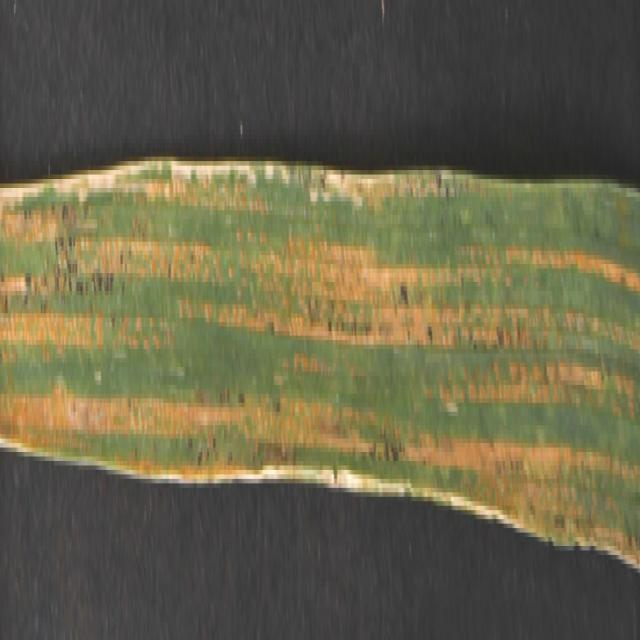leaf rust: (1, 197, 640, 550)
